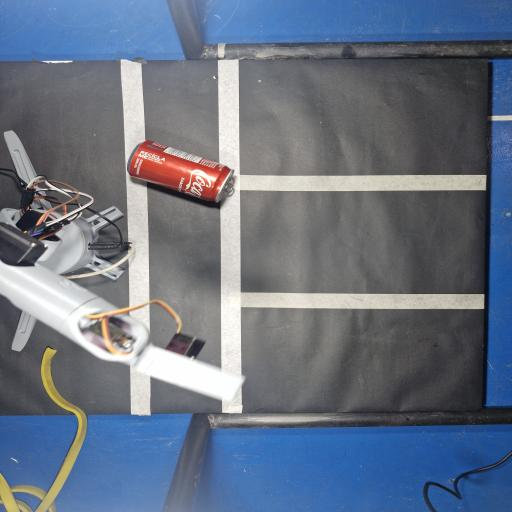lata: (127, 140, 234, 202)
